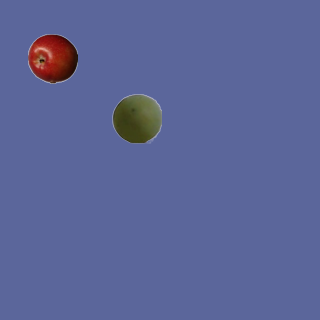Apple Braeburn: (27, 33, 77, 83)
Grape White 4: (111, 93, 161, 143)
